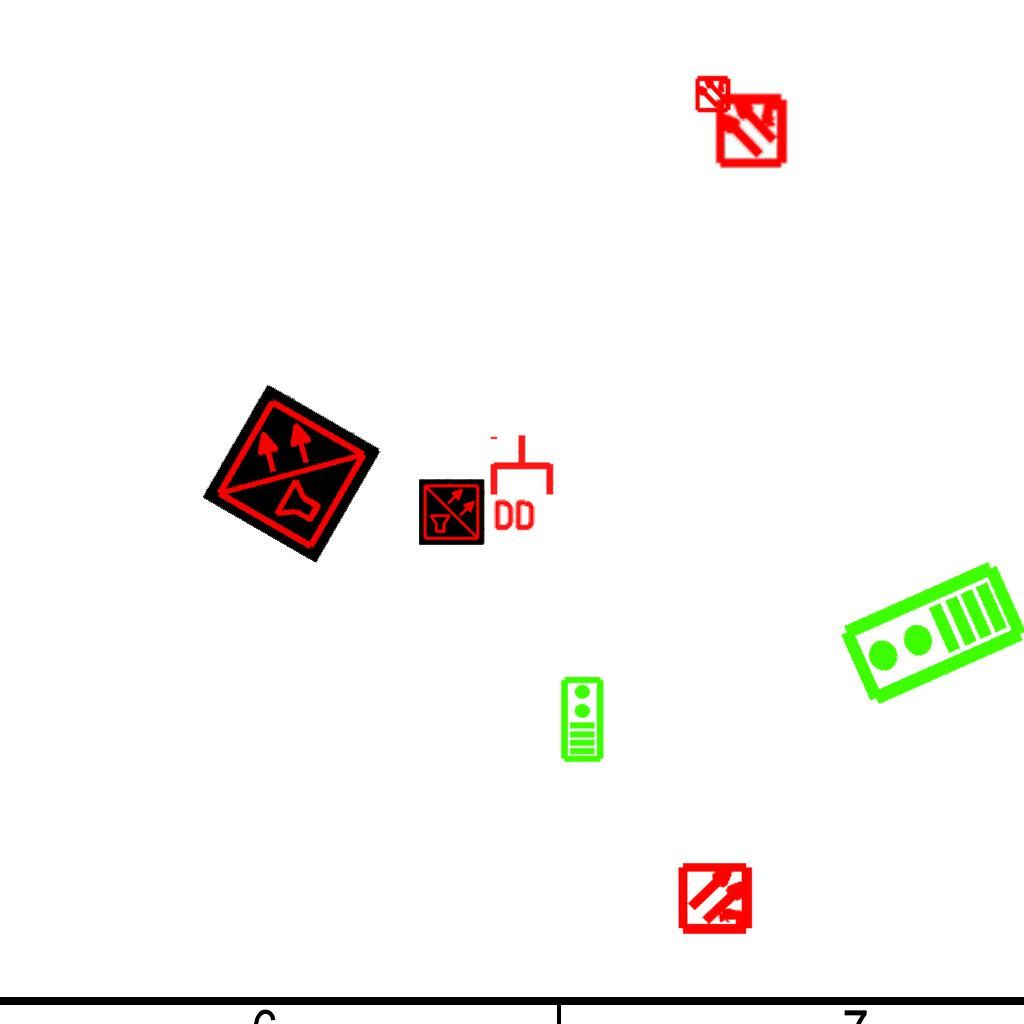Datenanschluss_zweifach: (489, 432, 558, 535)
Gegensprechanlage_mit_Video: (833, 555, 1024, 715), (558, 675, 605, 763)
OKW_Multisensormelder_(Kombination_optischer_Rauch-Kahlenmonoxid_Waerme-Melder): (201, 382, 383, 564), (419, 479, 485, 545)
OT_Multisensormelder_(Kombination_RMO_WMD): (661, 842, 774, 955), (695, 72, 808, 185), (685, 65, 741, 121)
